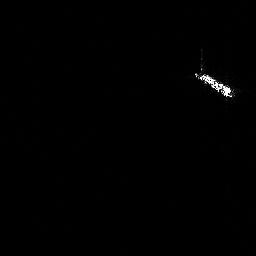ship: (194, 72, 232, 98)
